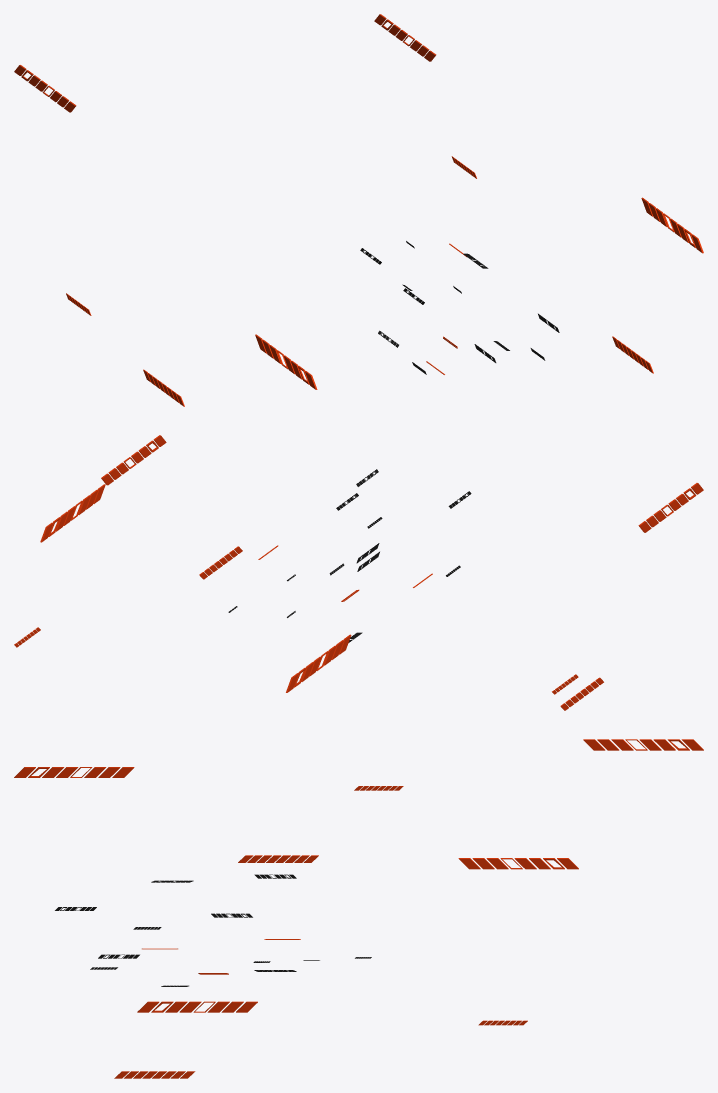
File: Folio_Back.glb
3 renders of one model, top to bottom at view 1: azimuth 30°, elevation 25°; view 2: azimuth 150°, elevation 25°; view 3: azimuth 270°, elevation 25°, orthographic. The views are drawn at different scales.
Parts seen in each view (by area): view 1: Back_Four, Back_Three; view 2: Back_Four, Back_Three; view 3: Back_Four, Back_Three.
Part boxes in pixels (x1,y1,x2,y2): Back_Four: (14, 65, 703, 406); Back_Three: (66, 14, 653, 389); Back_Four: (14, 435, 603, 710); Back_Three: (40, 483, 703, 694); Back_Four: (137, 739, 703, 1025); Back_Three: (14, 767, 578, 1078).
Size of the model in its own units: 85.12 by 32.57 by 102.
